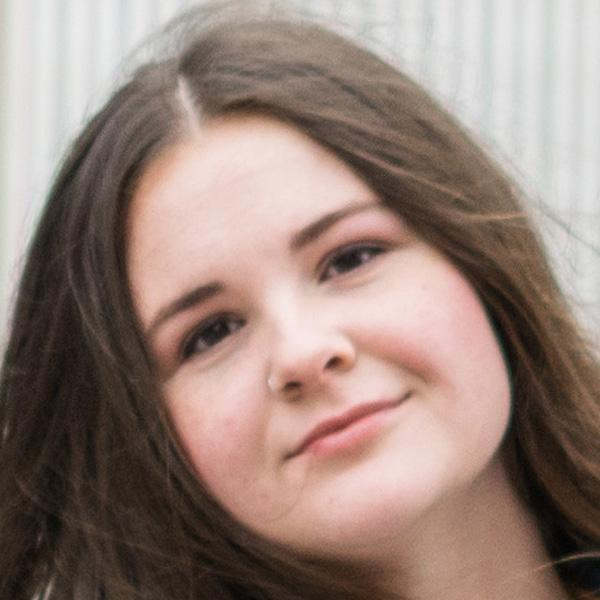Eyes: (172, 299, 253, 372), (311, 228, 398, 291)
